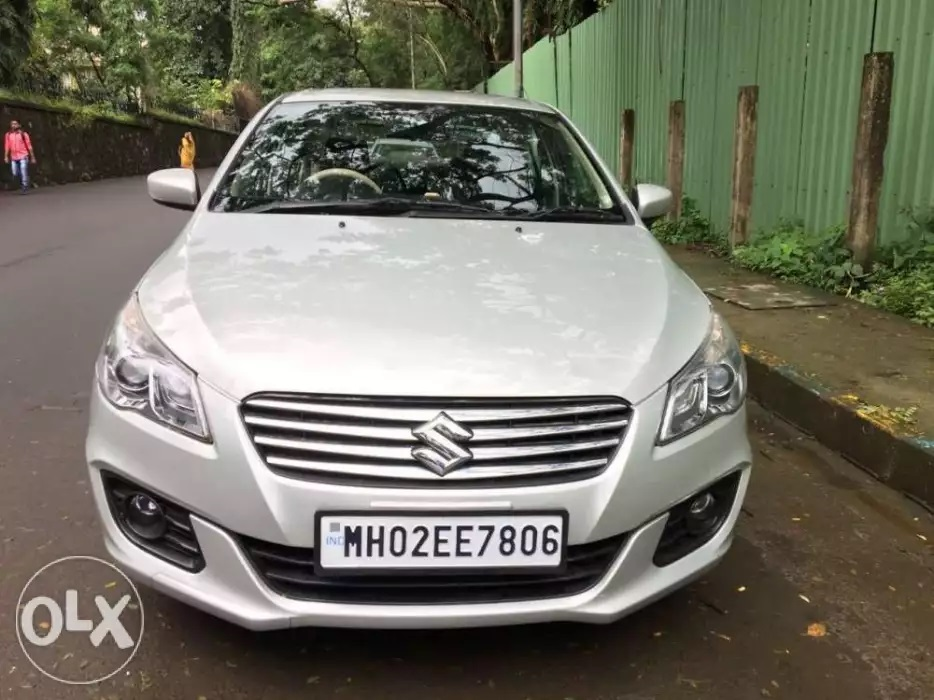licenseplate: (317, 507, 570, 573)
